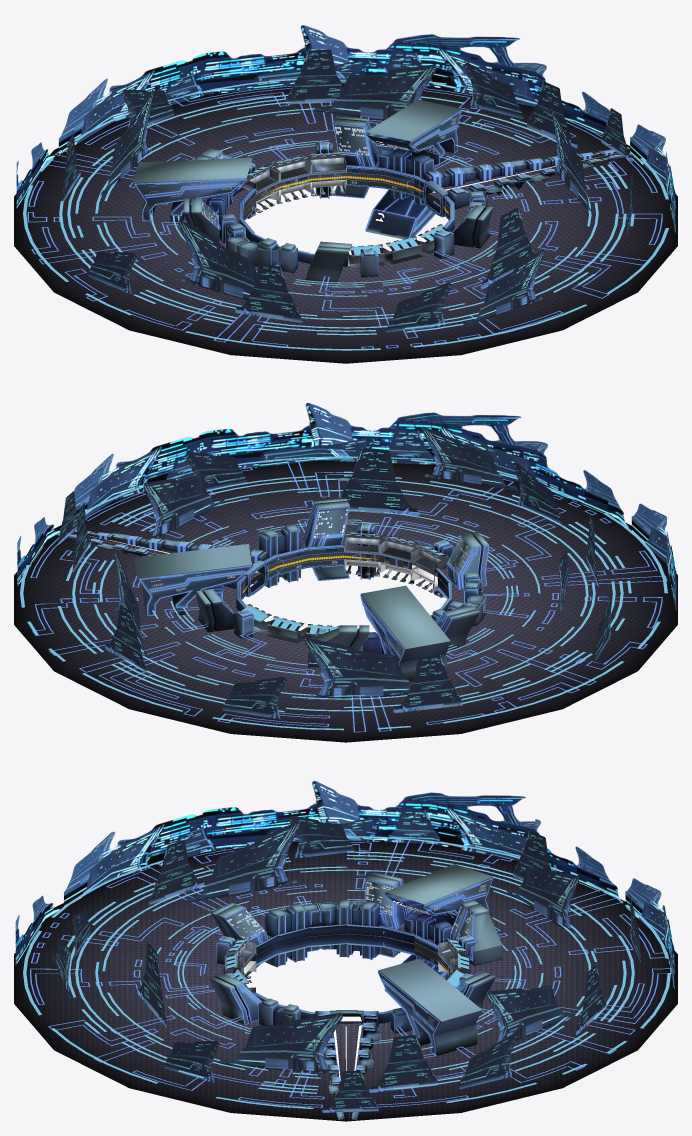
The model's file is city.glb.
The picture shows the model from 3 angles, top to bottom: view 1: azimuth 30°, elevation 25°; view 2: azimuth 150°, elevation 25°; view 3: azimuth 270°, elevation 25°; orthographic projection.
Visible parts, largest first — view 1: polygon57_City Floor_0, polygon69_Inner City Towers_0, polygon68_Outer City Facade_0, polygon9_Glow Blue_0, polygon3_Glow Cyan_0, polygon35_Large Buildings 1_0, polygon33_Large Buildings 2_0, polygon72_Crowd Stands_0, polygon63_Entrance Facade_0, polygon67_Arena Wall_0, polygon48_Small Buildings 2_0, polygon42_Small Buildings 1_0 (+3 smaller); view 2: polygon57_City Floor_0, polygon69_Inner City Towers_0, polygon68_Outer City Facade_0, polygon9_Glow Blue_0, polygon3_Glow Cyan_0, polygon33_Large Buildings 2_0, polygon35_Large Buildings 1_0, polygon72_Crowd Stands_0, polygon67_Arena Wall_0, polygon42_Small Buildings 1_0, polygon63_Entrance Facade_0, polygon48_Small Buildings 2_0 (+3 smaller); view 3: polygon57_City Floor_0, polygon69_Inner City Towers_0, polygon68_Outer City Facade_0, polygon9_Glow Blue_0, polygon3_Glow Cyan_0, polygon33_Large Buildings 2_0, polygon35_Large Buildings 1_0, polygon48_Small Buildings 2_0, polygon67_Arena Wall_0, polygon63_Entrance Facade_0, polygon72_Crowd Stands_0, polygon42_Small Buildings 1_0 (+2 smaller).
Part boxes in pixels (x1,y1,x2,y2): polygon57_City Floor_0: [14, 83, 677, 363]; polygon69_Inner City Towers_0: [62, 49, 632, 332]; polygon68_Outer City Facade_0: [16, 25, 675, 233]; polygon9_Glow Blue_0: [27, 83, 662, 348]; polygon3_Glow Cyan_0: [23, 76, 668, 350]; polygon35_Large Buildings 1_0: [333, 99, 493, 248]; polygon33_Large Buildings 2_0: [133, 148, 351, 282]; polygon72_Crowd Stands_0: [241, 151, 451, 267]; polygon63_Entrance Facade_0: [423, 147, 632, 217]; polygon67_Arena Wall_0: [239, 165, 454, 266]; polygon48_Small Buildings 2_0: [206, 163, 378, 277]; polygon42_Small Buildings 1_0: [315, 142, 487, 259]; polygon57_City Floor_0: [14, 460, 677, 742]; polygon69_Inner City Towers_0: [58, 426, 612, 719]; polygon68_Outer City Facade_0: [17, 403, 676, 610]; polygon9_Glow Blue_0: [30, 460, 667, 732]; polygon3_Glow Cyan_0: [20, 456, 667, 730]; polygon33_Large Buildings 2_0: [308, 531, 488, 681]; polygon35_Large Buildings 1_0: [134, 498, 349, 632]; polygon72_Crowd Stands_0: [239, 531, 449, 644]; polygon67_Arena Wall_0: [236, 544, 451, 644]; polygon42_Small Buildings 1_0: [206, 523, 375, 639]; polygon63_Entrance Facade_0: [56, 528, 267, 596]; polygon48_Small Buildings 2_0: [315, 540, 486, 653]; polygon57_City Floor_0: [14, 841, 677, 1121]; polygon69_Inner City Towers_0: [53, 816, 640, 1112]; polygon68_Outer City Facade_0: [15, 781, 674, 990]; polygon9_Glow Blue_0: [30, 839, 671, 1107]; polygon3_Glow Cyan_0: [23, 836, 670, 1108]; polygon33_Large Buildings 2_0: [211, 864, 502, 991]; polygon35_Large Buildings 1_0: [209, 958, 495, 1055]; polygon48_Small Buildings 2_0: [216, 900, 477, 972]; polygon67_Arena Wall_0: [252, 924, 450, 1023]; polygon63_Entrance Facade_0: [315, 1010, 380, 1119]; polygon72_Crowd Stands_0: [223, 937, 470, 992]; polygon42_Small Buildings 1_0: [226, 973, 472, 1033].
Bounding box in the file's own units: 99.64 × 19.49 × 98.13.
Materials: 19 (17 with a texture image).
